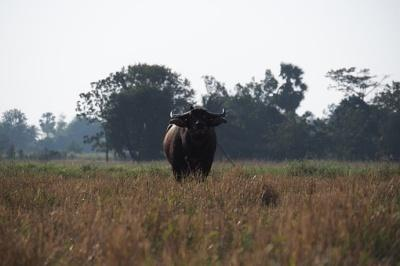buffalo: (163, 105, 226, 181)
